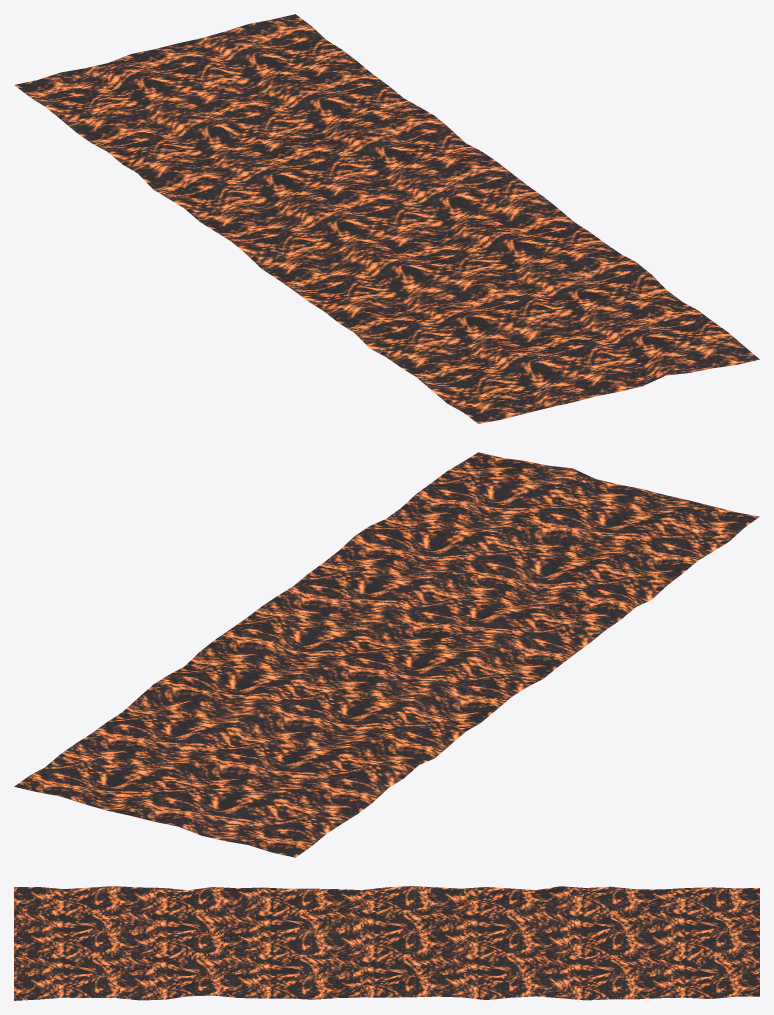
The model's file is lava_field.glb.
The picture shows the model from 3 angles, top to bottom: view 1: azimuth 30°, elevation 25°; view 2: azimuth 150°, elevation 25°; view 3: azimuth 270°, elevation 25°; orthographic projection. The views are drawn at different scales.
Visible parts, largest first — view 1: lava_field; view 2: lava_field; view 3: lava_field.
Part boxes in pixels (left/top/right/bottom): lava_field: left=14, top=14, right=759, bottom=423; lava_field: left=14, top=452, right=759, bottom=857; lava_field: left=14, top=886, right=759, bottom=1000.
Bounding box in the file's own units: 14 × 0.4929 × 40.
1 material, 1 textured.
